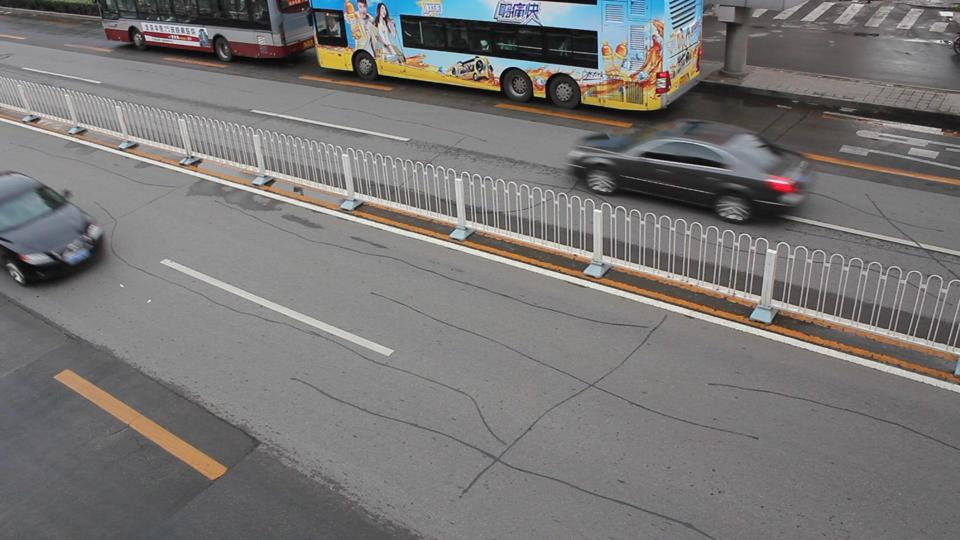bus: (308, 0, 710, 112), (96, 1, 319, 62)
car: (566, 119, 818, 224), (0, 170, 104, 286), (951, 34, 960, 57)
